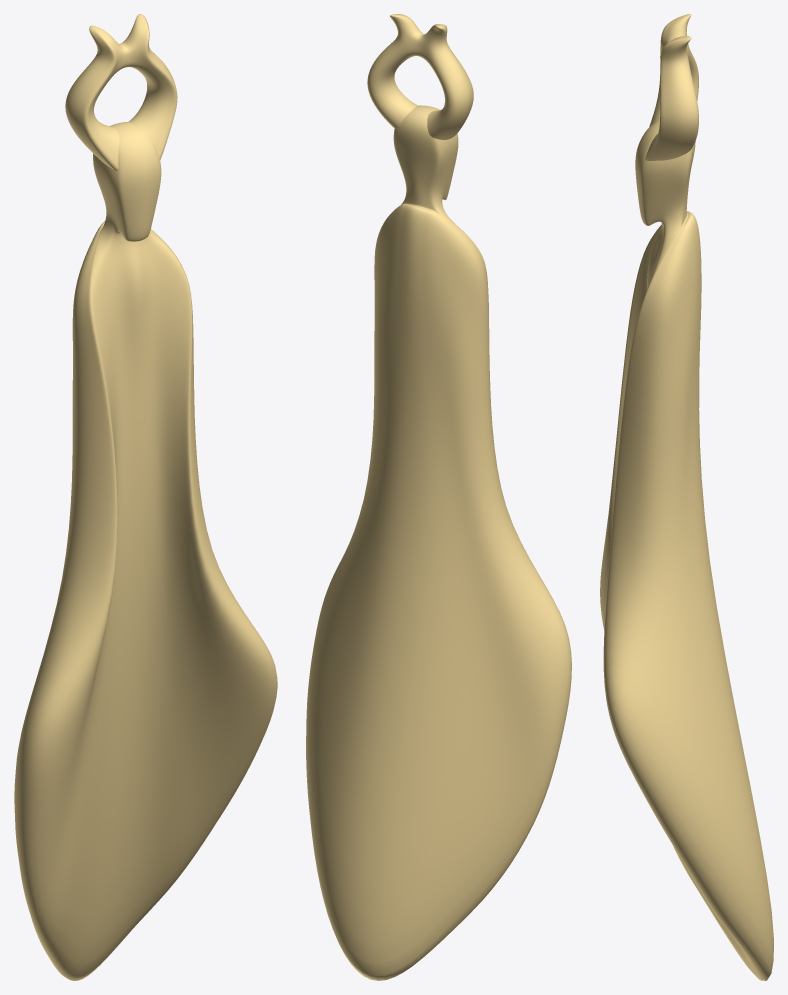
File: chaos.glb
3 renders of one model, left to right at view 1: azimuth 30°, elevation 25°; view 2: azimuth 150°, elevation 25°; view 3: azimuth 270°, elevation 25°, orthographic. The views are drawn at different scales.
Visible parts, largest first — view 1: Shape056, Circle044; view 2: Shape056, Circle044; view 3: Shape056, Circle044.
Part boxes in pixels (x1=…): Shape056: x1=14, y1=122, x2=277, y2=980; Circle044: x1=65, y1=14, x2=177, y2=170; Shape056: x1=306, y1=105, x2=571, y2=980; Circle044: x1=367, y1=14, x2=473, y2=139; Shape056: x1=600, y1=120, x2=773, y2=980; Circle044: x1=645, y1=14, x2=698, y2=160.
Bounding box in the file's own units: 0.011 × 0.0401 × 0.00665.
